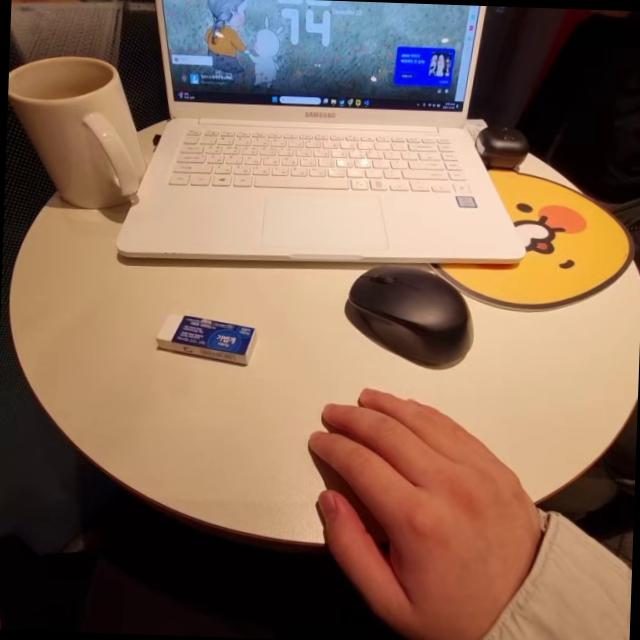eraser: (148, 308, 261, 372)
hand: (283, 378, 546, 638)
mouse: (342, 260, 492, 390)
